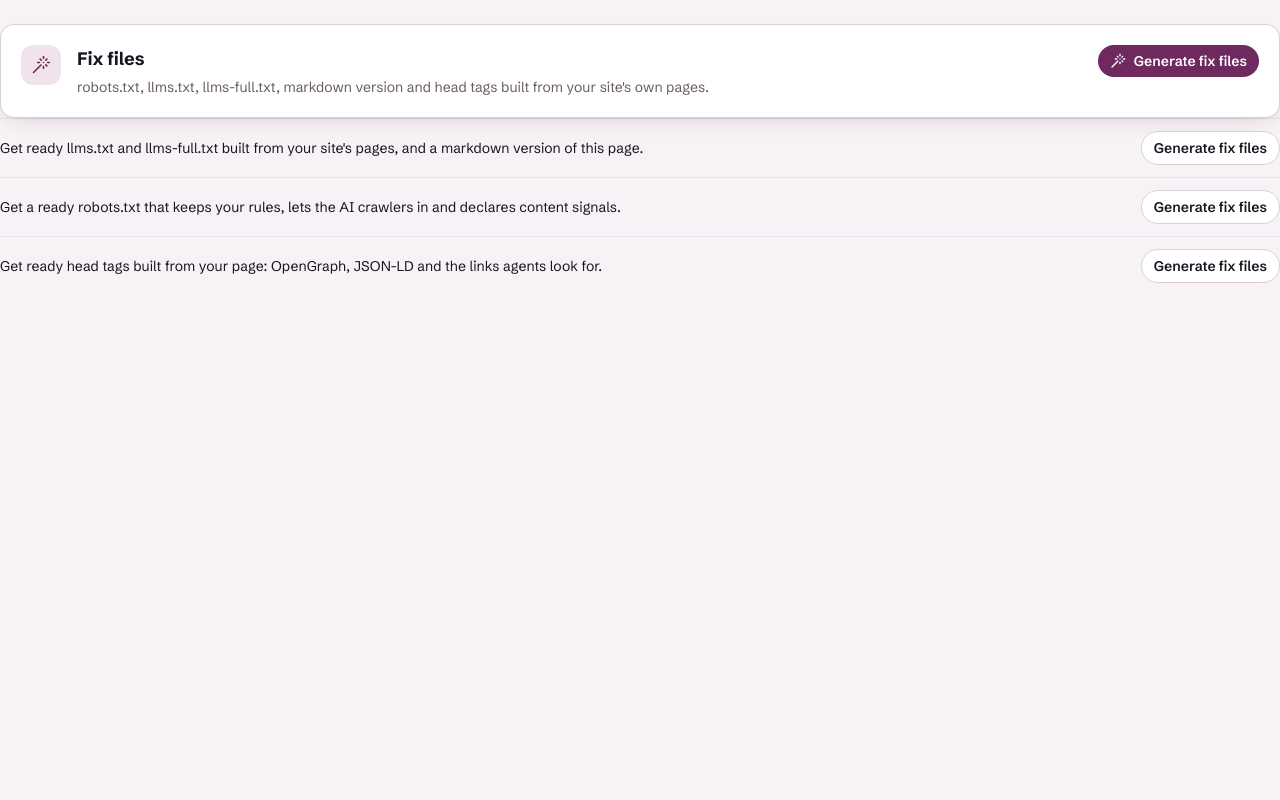
Fix files › non-owner gets the run-it-from-your-account dialog
This screenshot has width=1280, height=800.
Click the 3rd button "Generate fix files": (1210, 207) [1141, 190, 1279, 224]
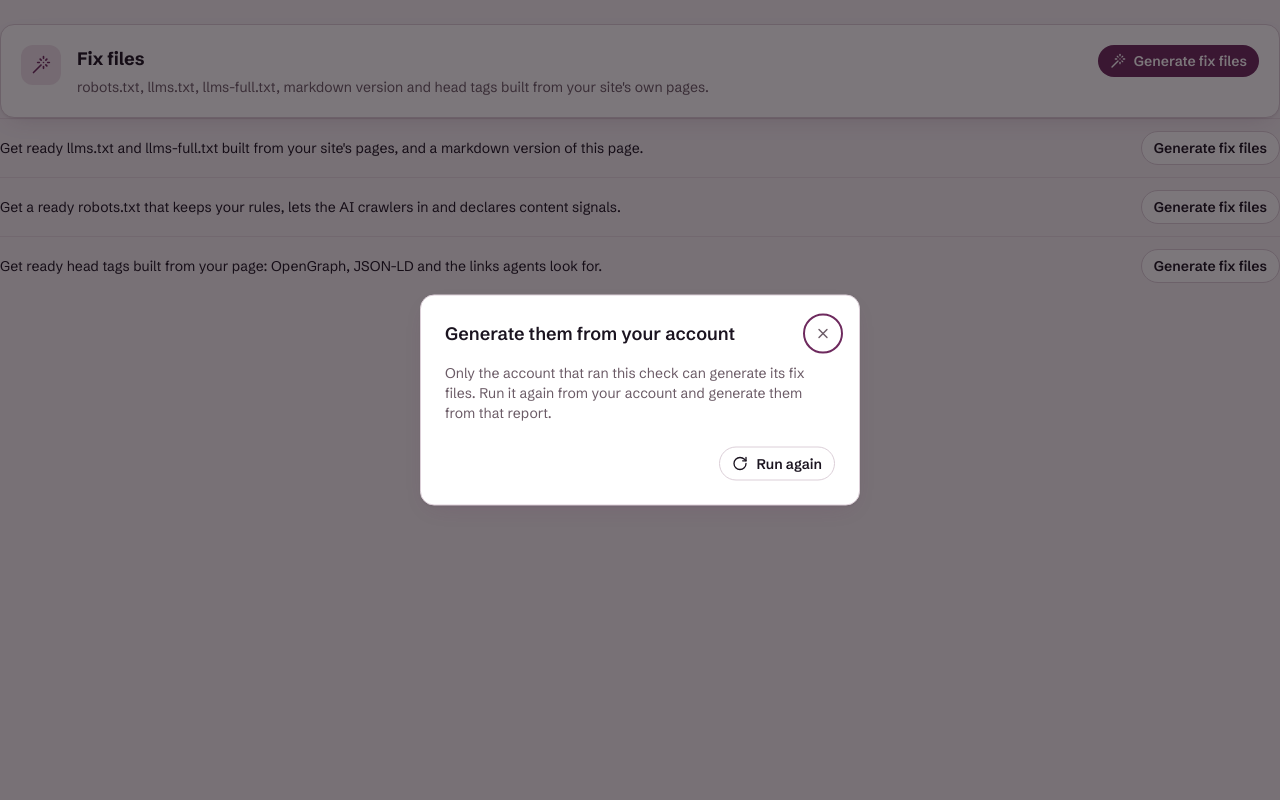
Expected: the button "Run again" is shown, [720, 446, 835, 480]
